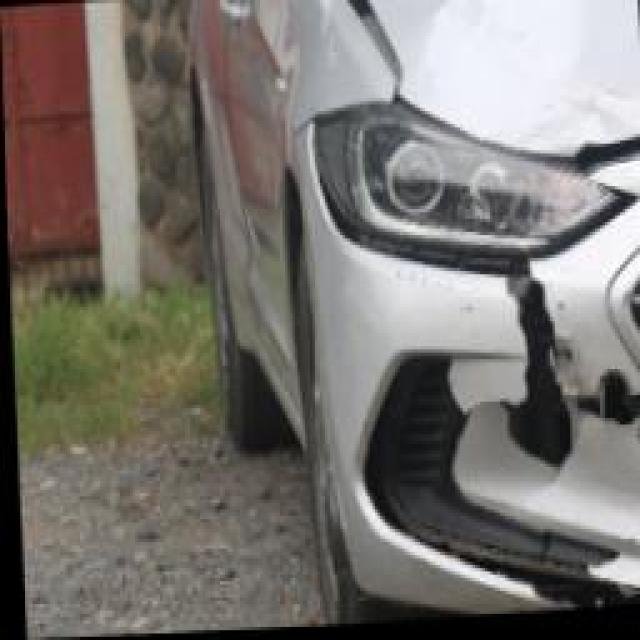Bonnet: (335, 0, 640, 171)
Bumper: (310, 262, 640, 621)
